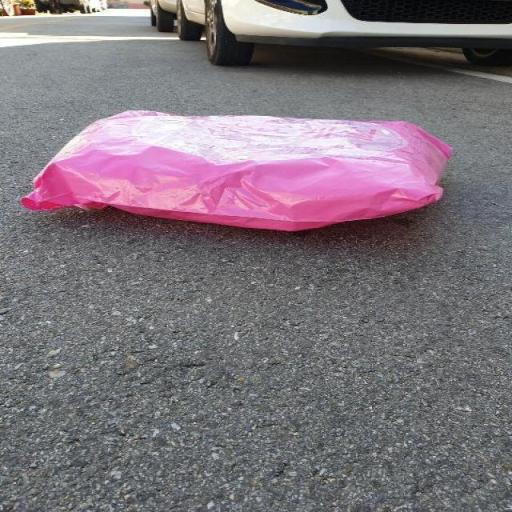plastic-bag: (20, 106, 454, 236)
